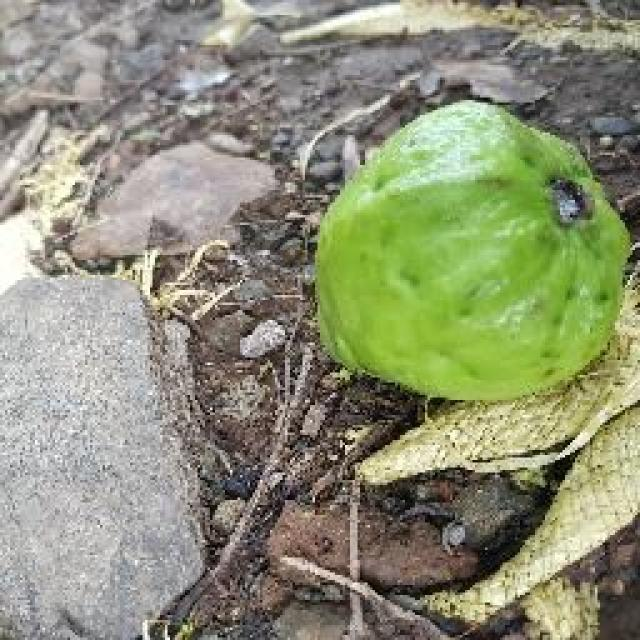Good_Guava: (312, 100, 630, 405)
